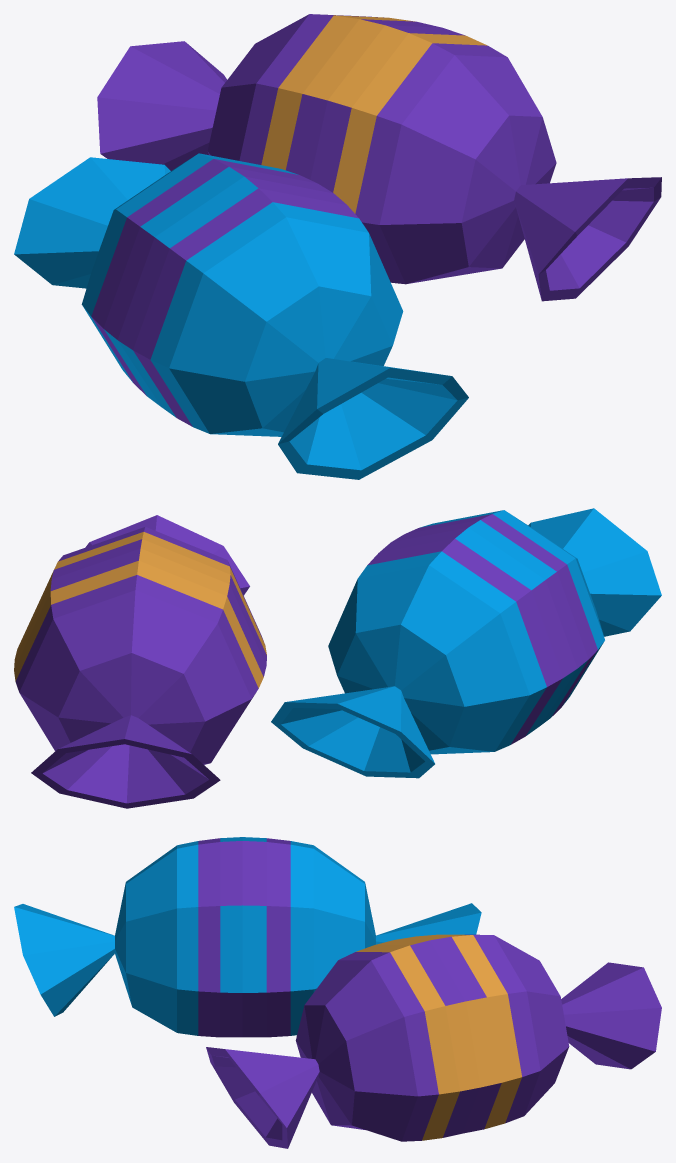
The model's file is candy2.glb.
3 views of the same model, one above another, from view 1: azimuth 30°, elevation 25°; view 2: azimuth 150°, elevation 25°; view 3: azimuth 270°, elevation 25° (orthographic). The views are drawn at different scales.
Parts seen in each view (by area): view 1: Circle.002; view 2: Circle.002; view 3: Circle.002.
Part boxes in pixels (box(x1,y1,x2,y2)): Circle.002: box(14, 14, 661, 479); Circle.002: box(14, 508, 661, 808); Circle.002: box(14, 837, 661, 1148).
Size of the model in its own units: 7.88 by 3.06 by 9.88.
